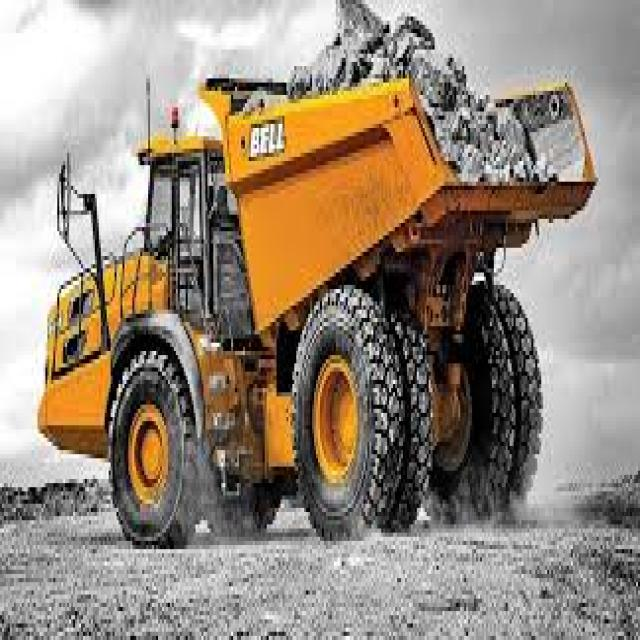dump_truck: (38, 0, 596, 578)
